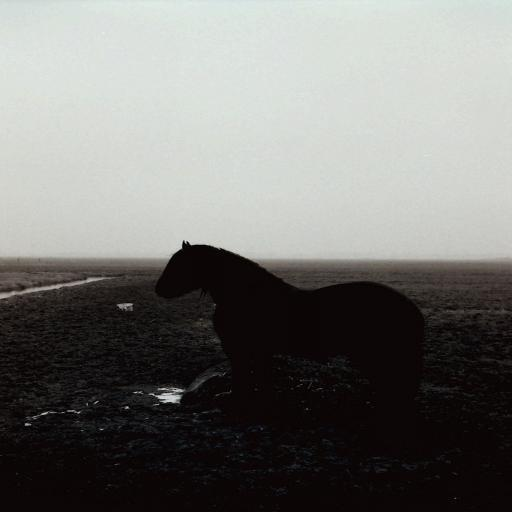horse: (156, 238, 430, 412)
